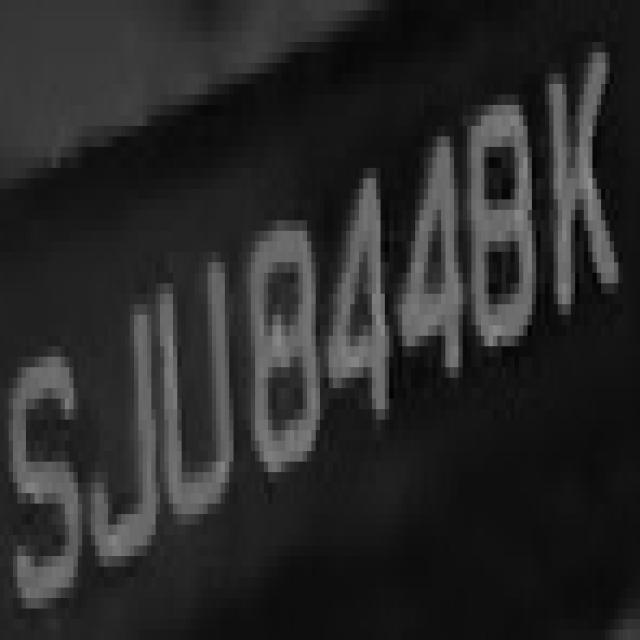4: (302, 126, 393, 441), (389, 84, 472, 388)
8: (450, 52, 545, 346), (230, 188, 324, 482)
J: (86, 273, 160, 598)
K: (532, 21, 631, 336)
S: (0, 294, 78, 619)
U: (138, 210, 230, 493)
